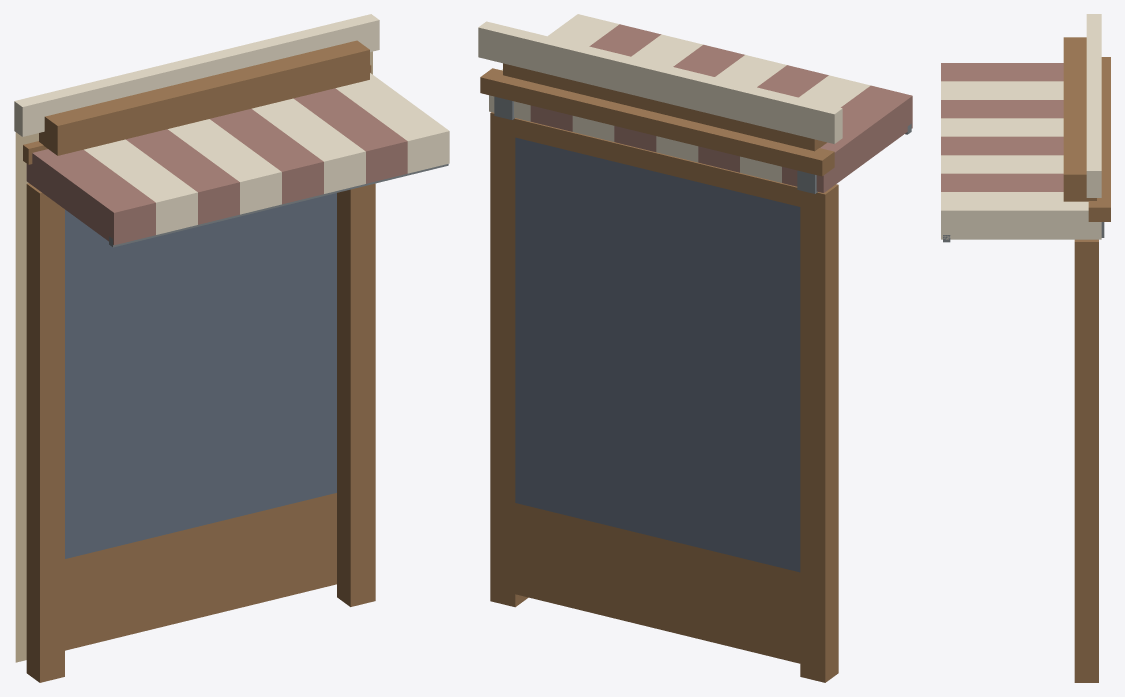
Rendered from Shopfront.glb.
3 views of the same model, side by side, from view 1: azimuth 30°, elevation 25°; view 2: azimuth 150°, elevation 25°; view 3: azimuth 270°, elevation 25° (orthographic). The views are drawn at different scales.
Visible parts, largest first — view 1: PBK_glass.001, PBK_Continuous_Frame_Indochine_Shopfront.003, PBK_glass.009_Frame_Base20.001, PBK_signboard.001, PBK_floor_band.048, PBK_awning_stripe.001, PBK_Indochine_Shopfront_Exterior_Surface.001, PBK_awning_stripe.008, PBK_awning_stripe.005, PBK_awning_stripe.002, PBK_awning_stripe.004, PBK_awning_stripe.007 (+3 smaller); view 2: PBK_glass.001, PBK_Continuous_Frame_Indochine_Shopfront.003, PBK_glass.009_Frame_Base20.001, PBK_floor_band.048, PBK_awning_wall_mount.003, PBK_awning_stripe.001, PBK_signboard.001, PBK_awning_stripe.004, PBK_awning_stripe.007, PBK_awning_stripe.005, PBK_awning_stripe.006, PBK_awning_stripe.002 (+2 smaller); view 3: PBK_Continuous_Frame_Indochine_Shopfront.003, PBK_awning_stripe.008, PBK_signboard.001, PBK_floor_band.048, PBK_awning_stripe.005, PBK_awning_stripe.001, PBK_awning_stripe.002, PBK_awning_stripe.003, PBK_awning_stripe.004, PBK_awning_stripe.006, PBK_awning_stripe.007, PBK_awning_wall_mount.003.
Part boxes in pixels (x1,y1,x2,y2): PBK_glass.001: (65,193,336,558); PBK_Continuous_Frame_Indochine_Shopfront.003: (26,183,375,682); PBK_glass.009_Frame_Base20.001: (65,493,336,650); PBK_signboard.001: (39,40,369,155); PBK_floor_band.048: (14,14,379,136); PBK_awning_stripe.001: (26,149,155,245); PBK_Indochine_Shopfront_Exterior_Surface.001: (15,51,372,662); PBK_awning_stripe.008: (335,73,449,173); PBK_awning_stripe.005: (210,108,323,204); PBK_awning_stripe.002: (84,139,197,234); PBK_awning_stripe.004: (168,119,281,214); PBK_awning_stripe.007: (293,88,407,183); PBK_glass.001: (515,137,800,572); PBK_Continuous_Frame_Indochine_Shopfront.003: (490,112,838,682); PBK_glass.009_Frame_Base20.001: (515,503,800,663); PBK_floor_band.048: (478,21,842,143); PBK_awning_wall_mount.003: (480,68,834,176); PBK_awning_stripe.001: (782,85,912,192); PBK_signboard.001: (503,63,826,151); PBK_awning_stripe.004: (656,55,786,162); PBK_awning_stripe.007: (530,24,661,131); PBK_awning_stripe.005: (614,44,744,151); PBK_awning_stripe.006: (572,34,702,141); PBK_awning_stripe.002: (740,75,870,182); PBK_Continuous_Frame_Indochine_Shopfront.003: (1074,239,1098,682); PBK_awning_stripe.008: (941,192,1101,239); PBK_signboard.001: (1063,37,1096,201); PBK_floor_band.048: (1086,14,1101,197); PBK_awning_stripe.005: (941,136,1063,155); PBK_awning_stripe.001: (941,63,1063,81); PBK_awning_stripe.002: (941,81,1063,99); PBK_awning_stripe.003: (941,100,1063,118); PBK_awning_stripe.004: (941,118,1063,136); PBK_awning_stripe.006: (941,155,1063,173); PBK_awning_stripe.007: (941,173,1063,191); PBK_awning_wall_mount.003: (1088,57,1110,221).
Bounding box in the file's own units: 2 × 3.07 × 0.915.
